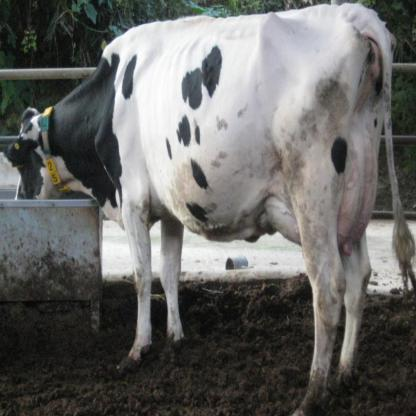cow: (5, 5, 392, 416)
